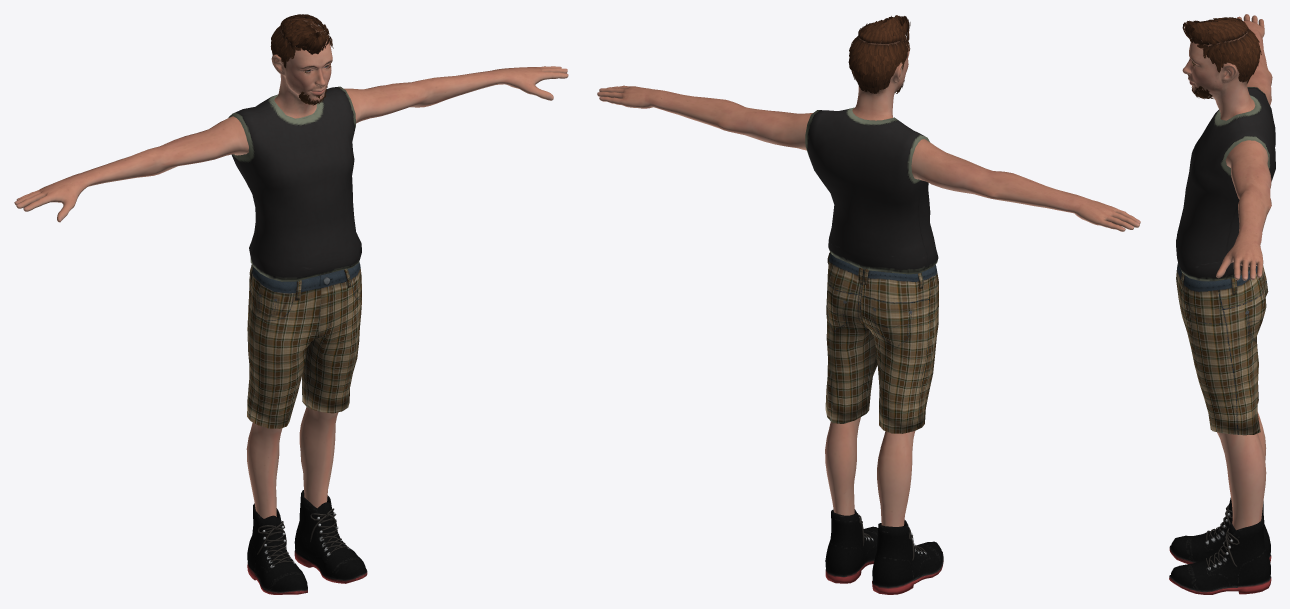
The model's file is person obj.obj.
The picture shows the model from 3 angles, left to right: view 1: azimuth 30°, elevation 25°; view 2: azimuth 150°, elevation 25°; view 3: azimuth 270°, elevation 25°; orthographic projection.
Visible parts, largest first — view 1: Body, Tops, Bottoms, Shoes, Hair; view 2: Body, Bottoms, Tops, Shoes, Hair; view 3: Body, Bottoms, Tops, Shoes, Hair, Beards.
Part boxes in pixels (x1,y1,x2,y2): Body: (14,19,568,518); Tops: (228,86,361,281); Bottoms: (247,262,361,428); Shoes: (247,490,367,594); Hair: (270,14,333,67); Body: (597,35,1140,526); Bottoms: (825,252,938,433); Tops: (805,107,938,274); Shoes: (825,509,943,594); Hair: (848,15,910,93); Body: (1182,14,1272,530); Bottoms: (1176,263,1268,435); Tops: (1176,87,1275,281); Shoes: (1169,497,1271,594); Hair: (1182,17,1261,83); Beards: (1191,86,1213,99).
Size of the model in its own units: 187 by 181 by 31.6.
1 material, 1 textured.
